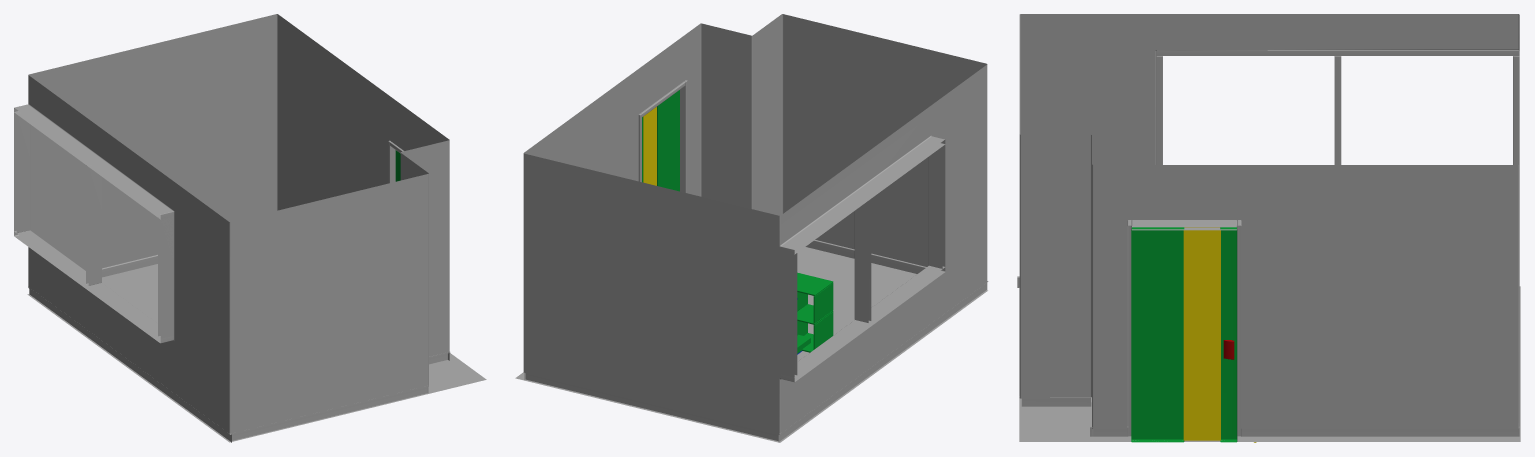
Rendered from Source.fbx.
3 views of the same model, side by side, from view 1: azimuth 30°, elevation 25°; view 2: azimuth 150°, elevation 25°; view 3: azimuth 270°, elevation 25° (orthographic). The views are drawn at different scales.
Visible parts, largest first — view 1: Walls, Window, Floor, Plinth; view 2: Walls, Window, Floor, Plinth, Door, Shelves, DoorFrame; view 3: Walls, Door, Floor, Window, Plinth, DoorFrame.
Part boxes in pixels (x1,y1,x2,y2): Walls: [14, 14, 449, 434]; Window: [14, 104, 173, 343]; Floor: [27, 264, 486, 442]; Plinth: [29, 254, 450, 442]; Walls: [523, 14, 987, 434]; Window: [780, 136, 945, 382]; Floor: [515, 247, 987, 442]; Plinth: [523, 240, 988, 441]; Door: [642, 90, 679, 191]; Shelves: [797, 272, 833, 352]; DoorFrame: [638, 80, 687, 193]; Walls: [1019, 14, 1519, 428]; Door: [1131, 227, 1237, 442]; Floor: [1019, 286, 1520, 441]; Window: [1156, 50, 1519, 164]; Plinth: [1017, 276, 1519, 436]; DoorFrame: [1127, 220, 1241, 436].
Bounding box in the file's own units: 4.33 × 3.93 × 5.58.
